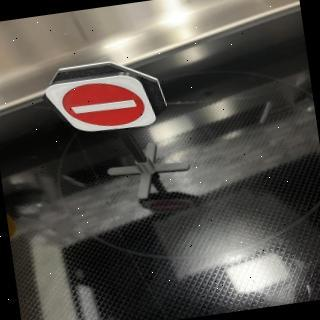sign_noentry: (43, 69, 160, 142)
